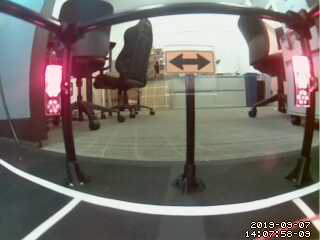Left_Right_sign: (164, 49, 221, 76)
Traffic_light_red: (292, 58, 315, 109), (46, 60, 62, 121)
